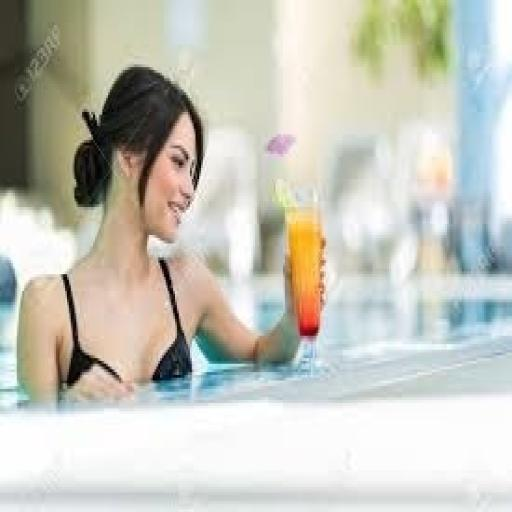drinking: (56, 97, 354, 402)
